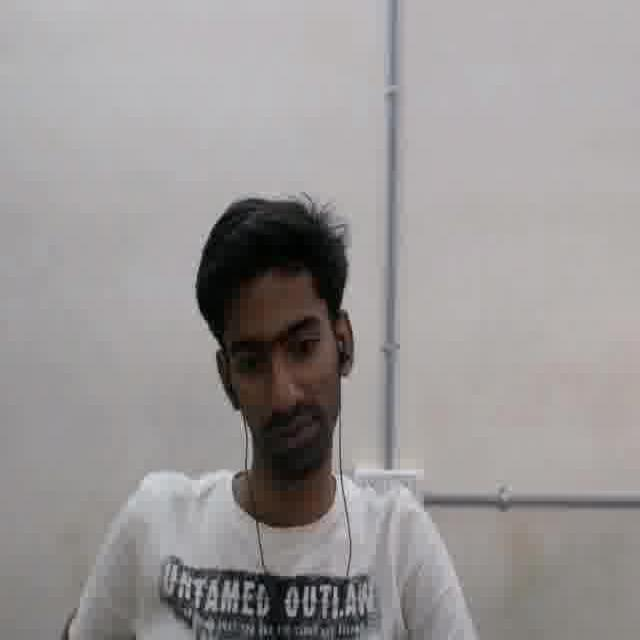Boredom: (219, 275, 336, 469)
